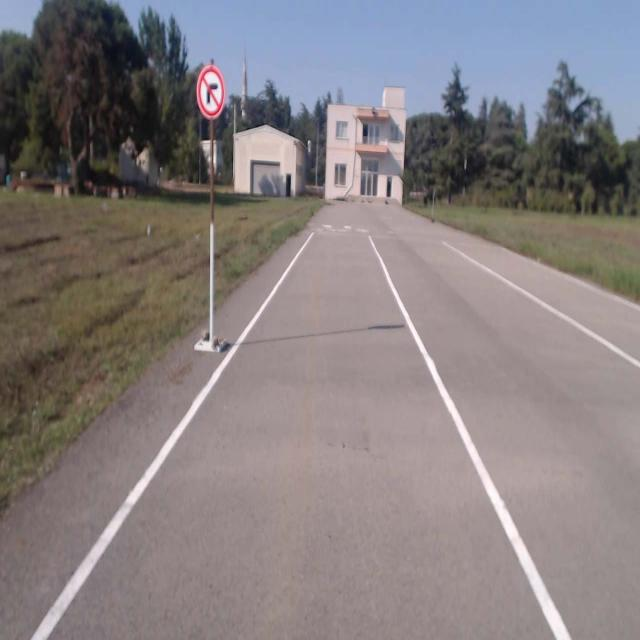sagadonulmez: (197, 67, 224, 119)
